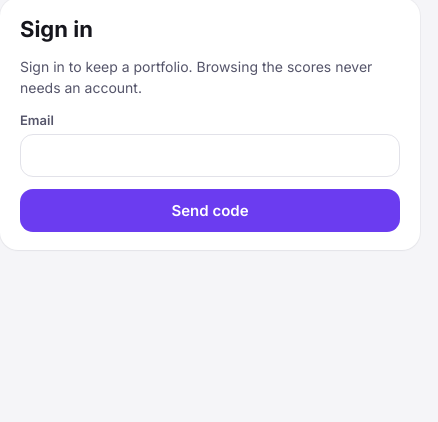
Test: LoginView › says so when the code is wrong
This screenshot has width=438, height=422.
Type "a@example.test" into the field labelled "Email" at (210, 156), box [20,134,400,177]
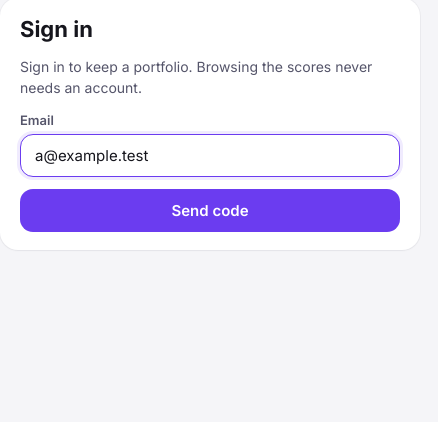
Click the button "Send code" at (210, 210), box [20,189,400,232]
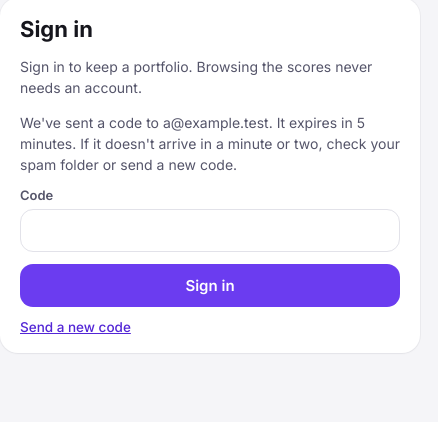
Type "000000" into the field labelled "Code" at (210, 230), box [20,209,400,252]
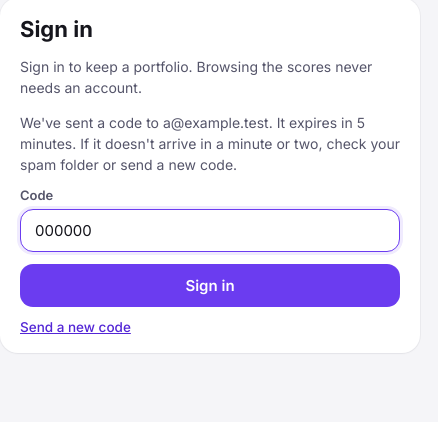
Click the button "Sign in" at (210, 286), box [20,264,400,307]
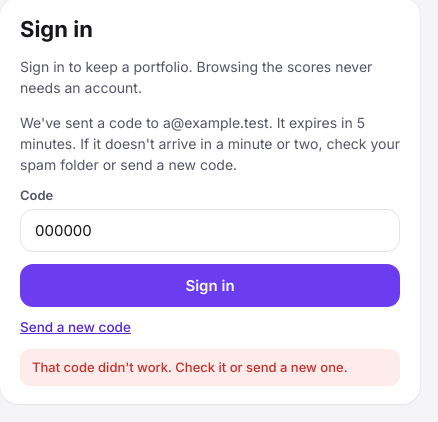
Expected: the text "That code didn't work. Check it or send a new one." is shown, [20,349,400,386]
